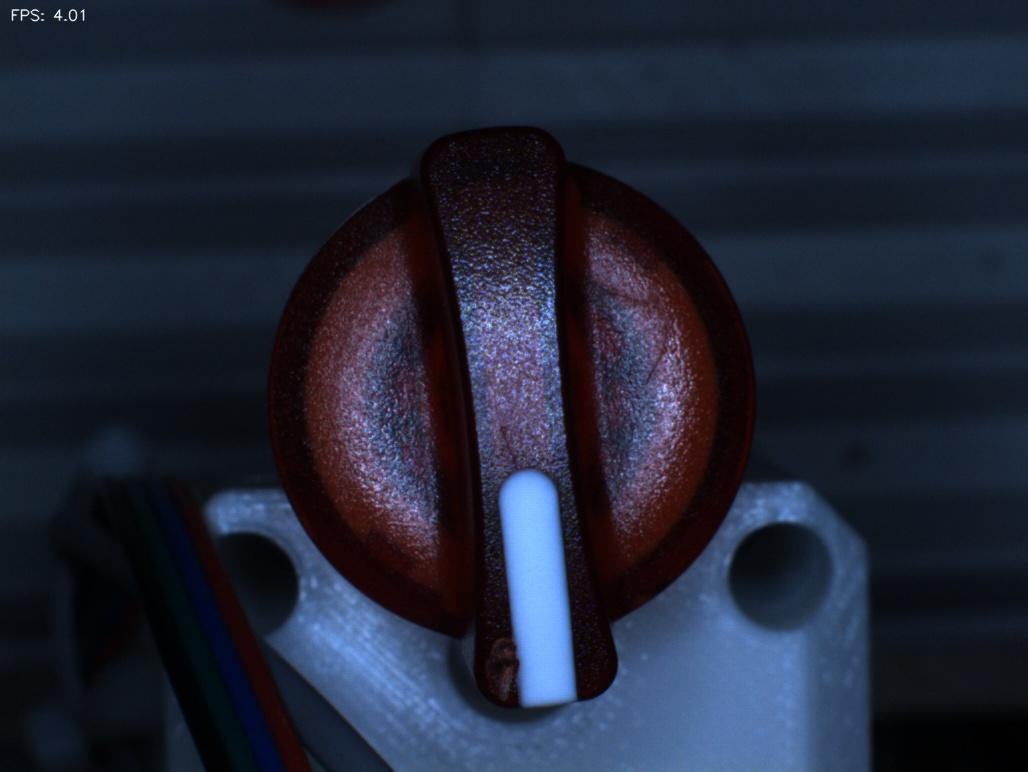Choc: (447, 612, 554, 724)
